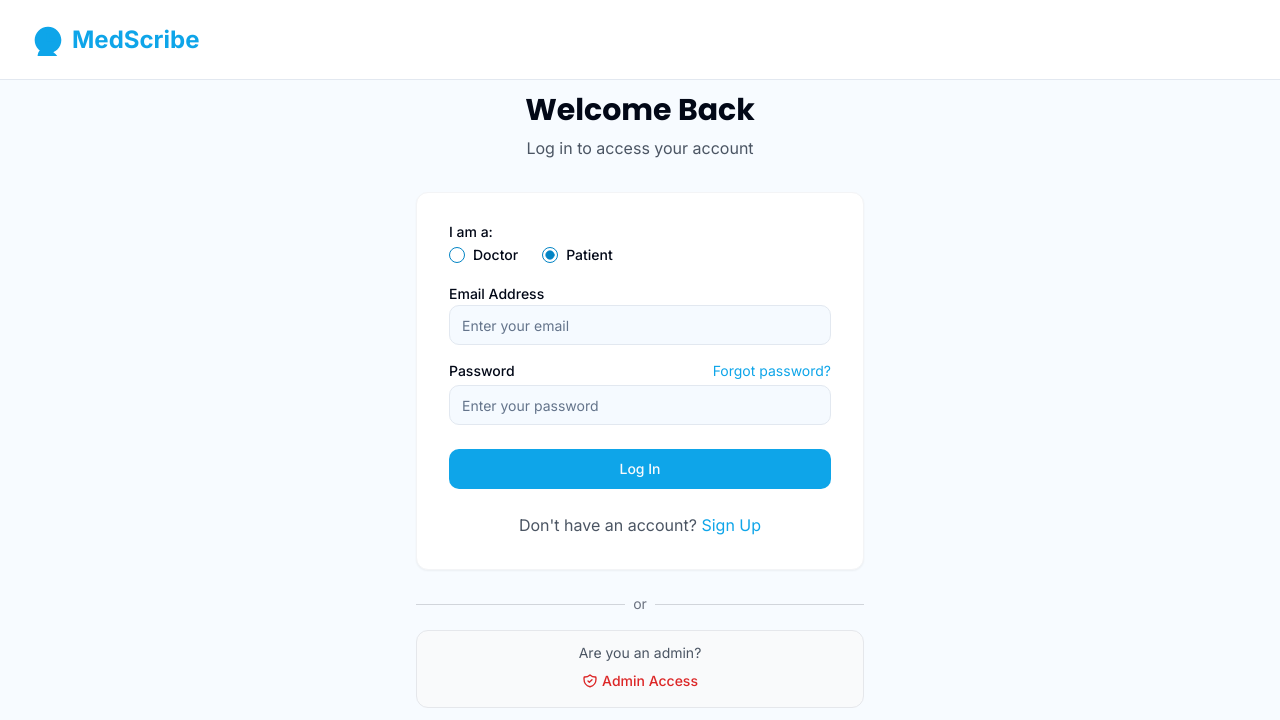
Test case: Login Component › Form Interactions › should allow user to switch between doctor and patient roles
Expected: the radio button named "Patient" next to "Patient" is checked, 542,247 -> 558,263
Click doctor radio
Click the radio button named "Doctor" next to "Doctor" at (457, 255), box 449,247 -> 465,263
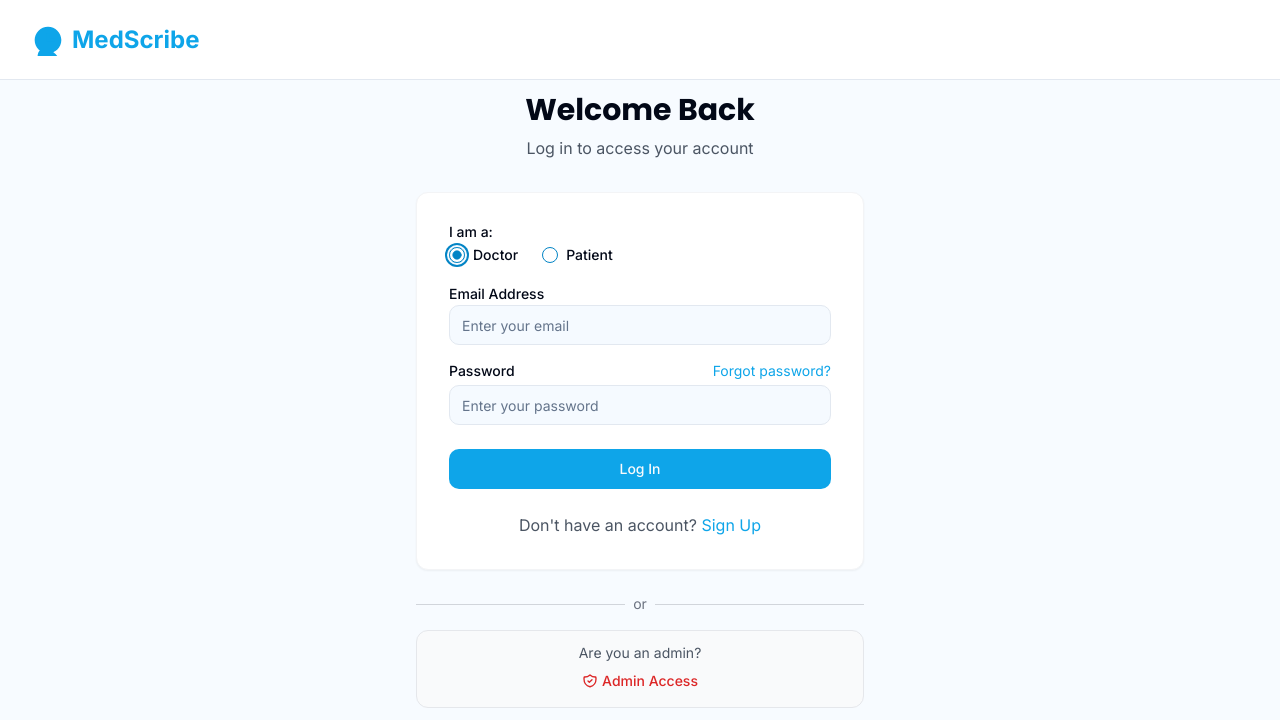
Result: the radio button named "Doctor" next to "Doctor" is checked at 449,247 -> 465,263
Result: the radio button named "Patient" next to "Patient" is not checked at 542,247 -> 558,263
